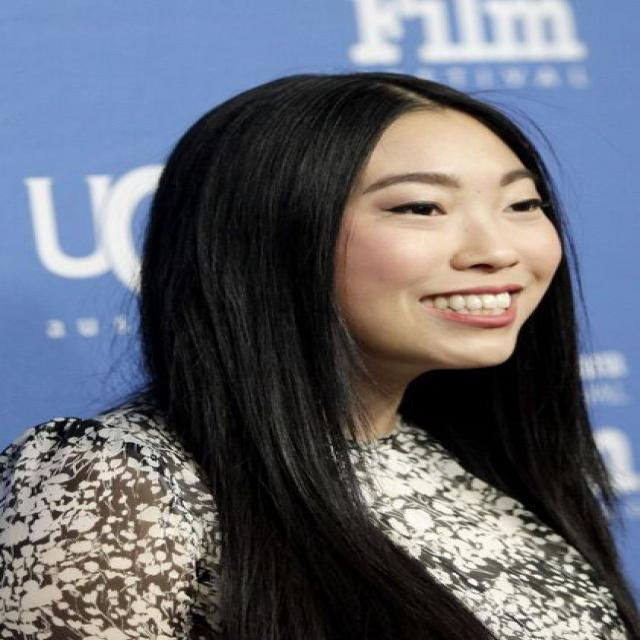Nonhelmet: (165, 66, 569, 378)
